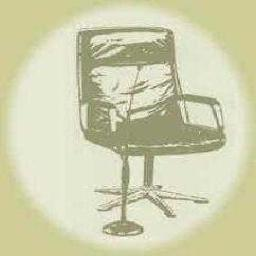Chair: (76, 26, 228, 237)
